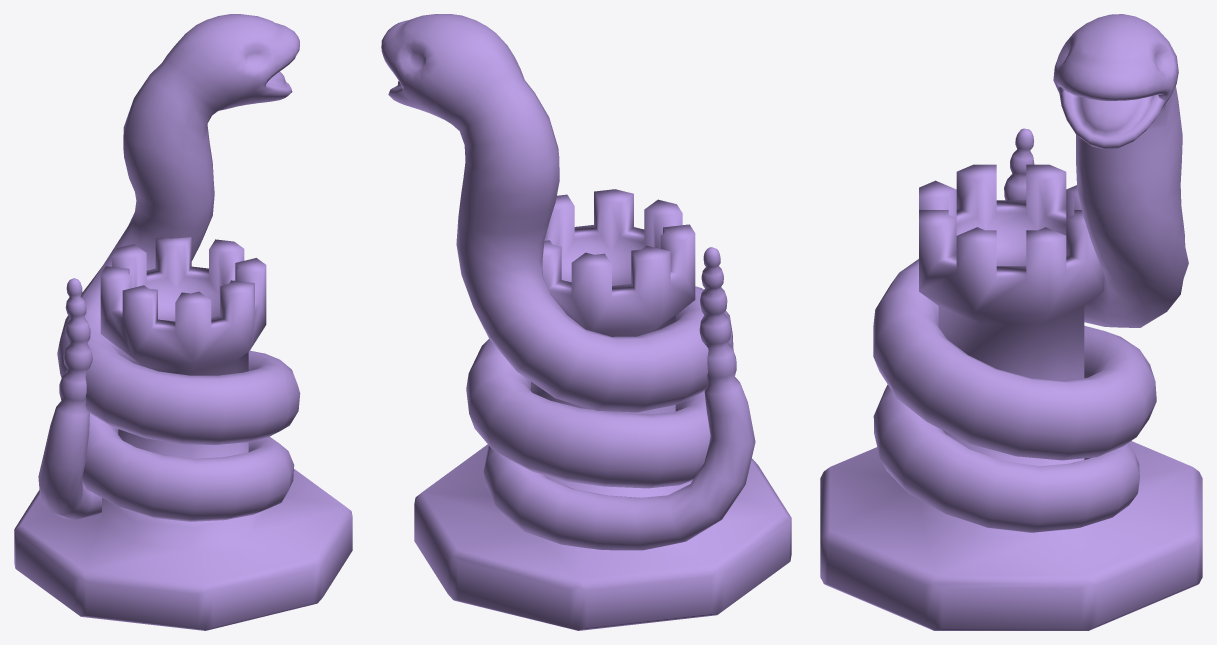
File: Rook_Ekans.obj
The picture shows the model from 3 angles, left to right: view 1: azimuth 30°, elevation 25°; view 2: azimuth 150°, elevation 25°; view 3: azimuth 270°, elevation 25°; orthographic projection. The views are drawn at different scales.
Parts seen in each view (by area): view 1: Rook_Ekans; view 2: Rook_Ekans; view 3: Rook_Ekans.
Part boxes in pixels (x1,y1,x2,y2): Rook_Ekans: [14, 14, 352, 630]; Rook_Ekans: [381, 14, 791, 630]; Rook_Ekans: [820, 14, 1202, 630].
Size of the model in its own units: 40.83 by 65.24 by 38.8.
